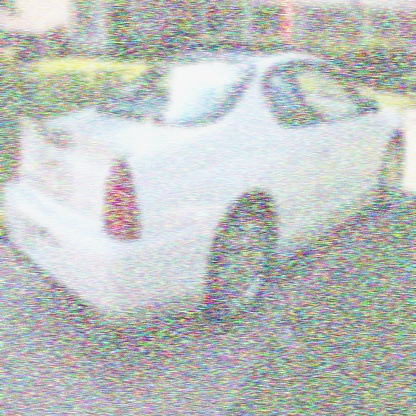Vehicle: (1, 41, 410, 337)
